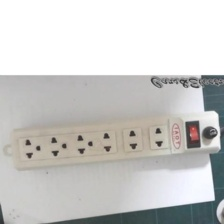three_eye_plug: (6, 108, 222, 174)
